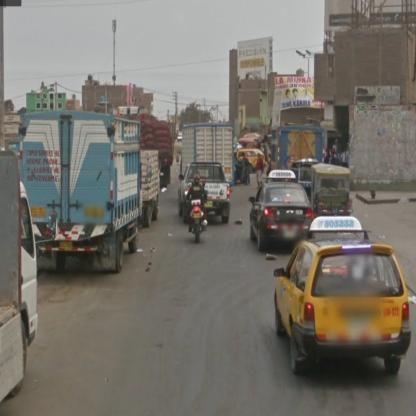Moto: (187, 174, 209, 244)
Vehiculo: (275, 217, 412, 377), (19, 112, 144, 273), (250, 170, 317, 251), (179, 163, 232, 225), (311, 164, 353, 218)
